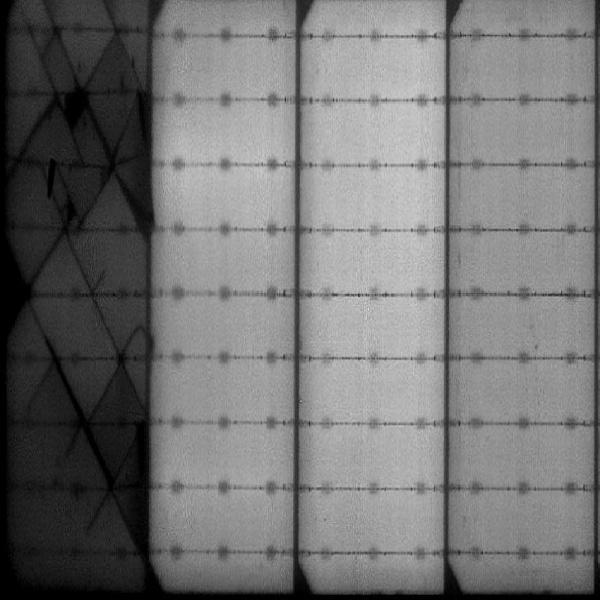broken: (1, 1, 147, 554)
